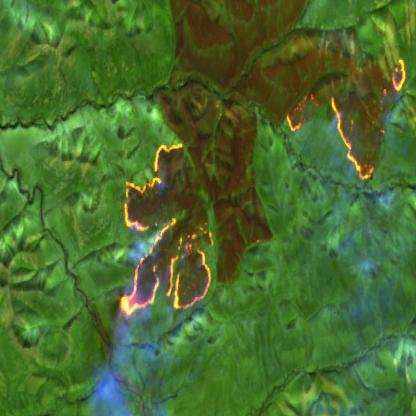fire: (115, 137, 215, 313), (283, 54, 408, 183)
